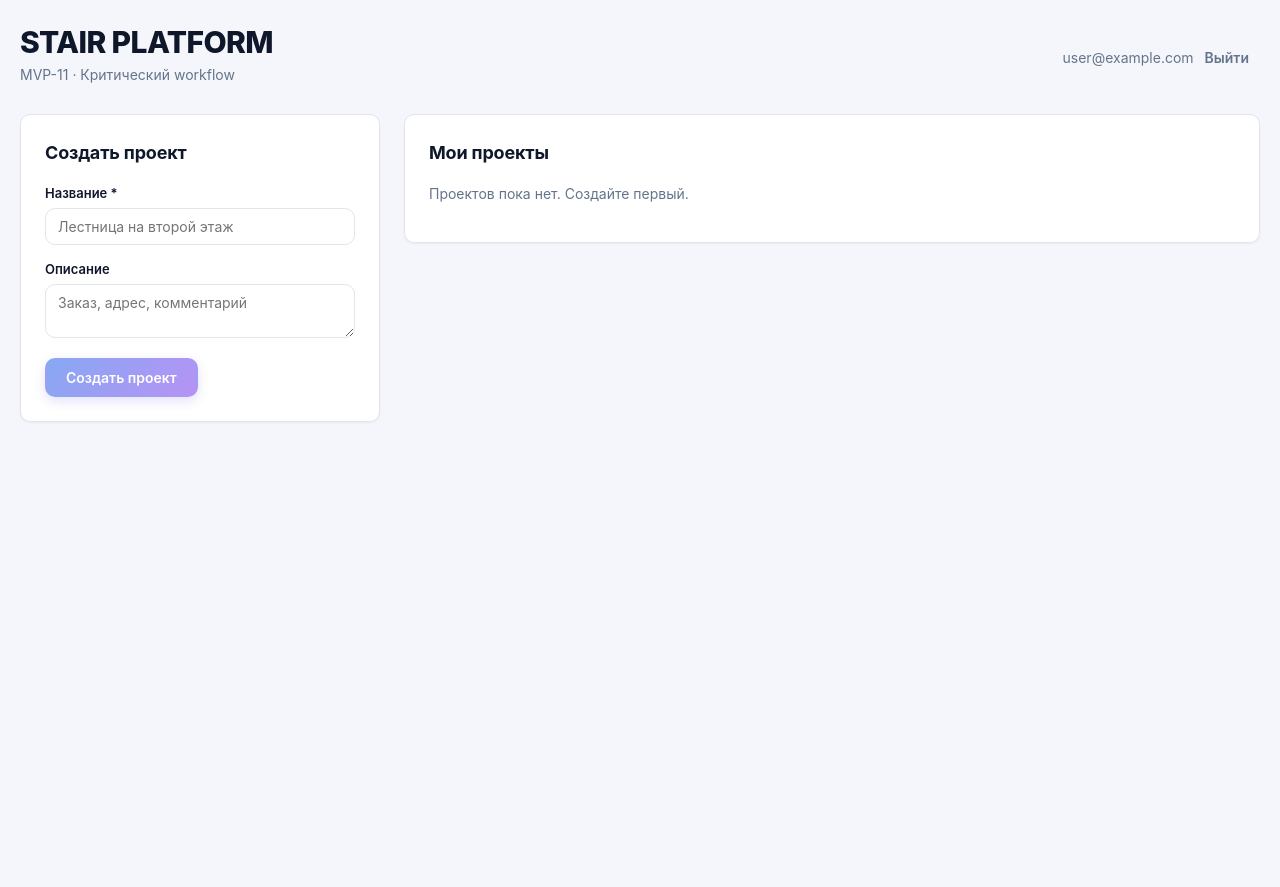
Scenario: App routing › создание проекта обновляет список и открывает новый проект
The width and height of the screenshot is (1280, 887).
Type "Винтовая лестница" into the field labelled "Название *" at (200, 226), box [45,208,355,245]
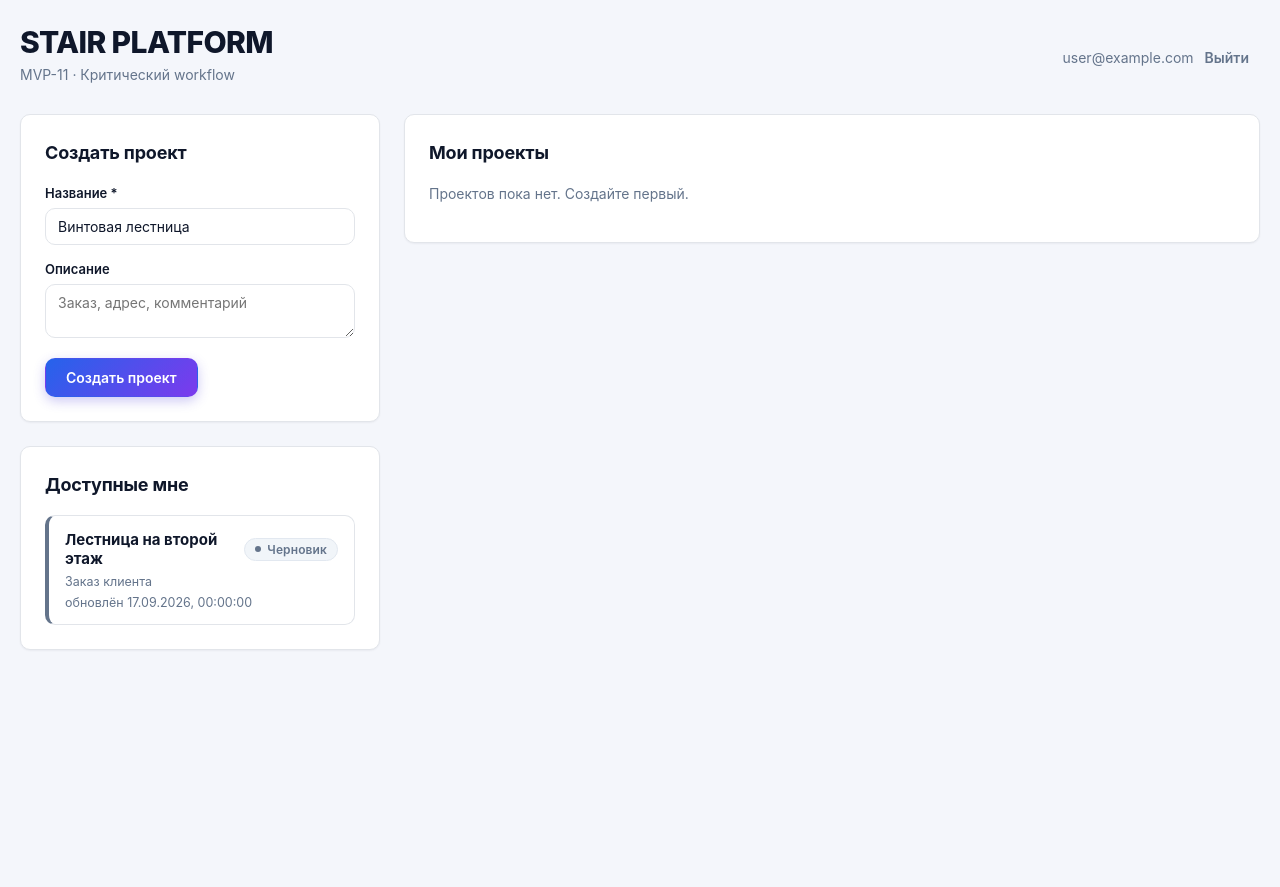
Click the button "Создать проект" at (121, 378), box [45,358,198,397]
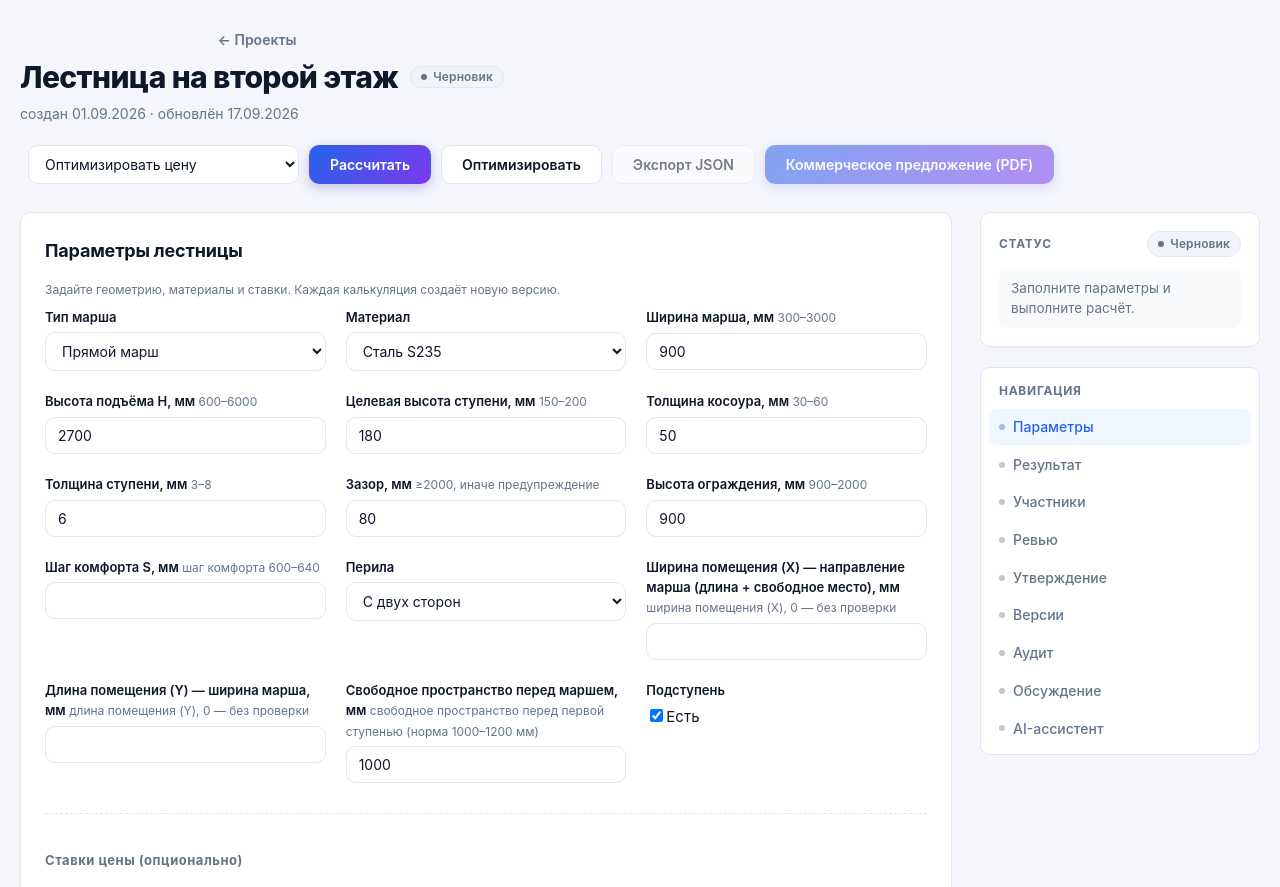
Result: the button "← Проекты" is shown at [10,24,504,55]
